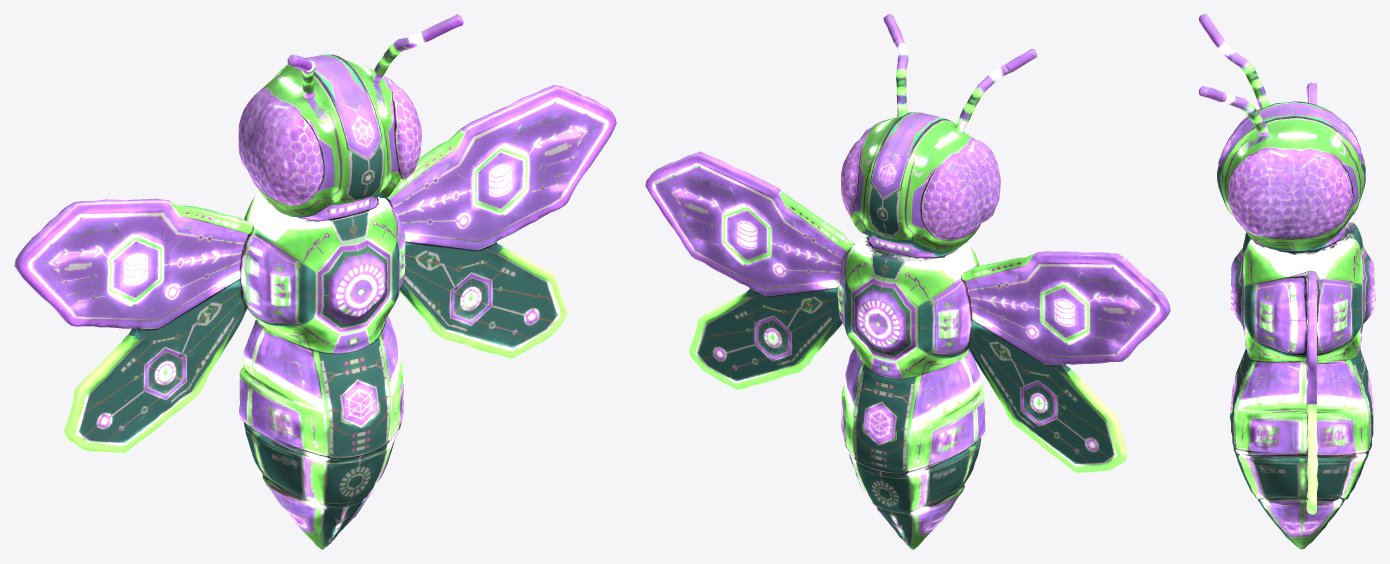
Rendered from bee3.glb.
3 renders of one model, left to right at view 1: azimuth 30°, elevation 25°; view 2: azimuth 150°, elevation 25°; view 3: azimuth 270°, elevation 25°, orthographic. The views are drawn at different scales.
Bounding box in the file's own units: 1.9 × 1.68 × 0.5401.
1 material, 1 textured.
